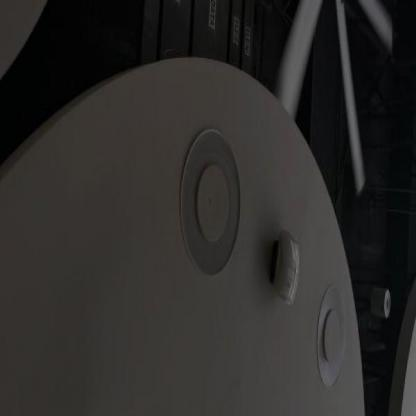light_off: (168, 87, 244, 308)
